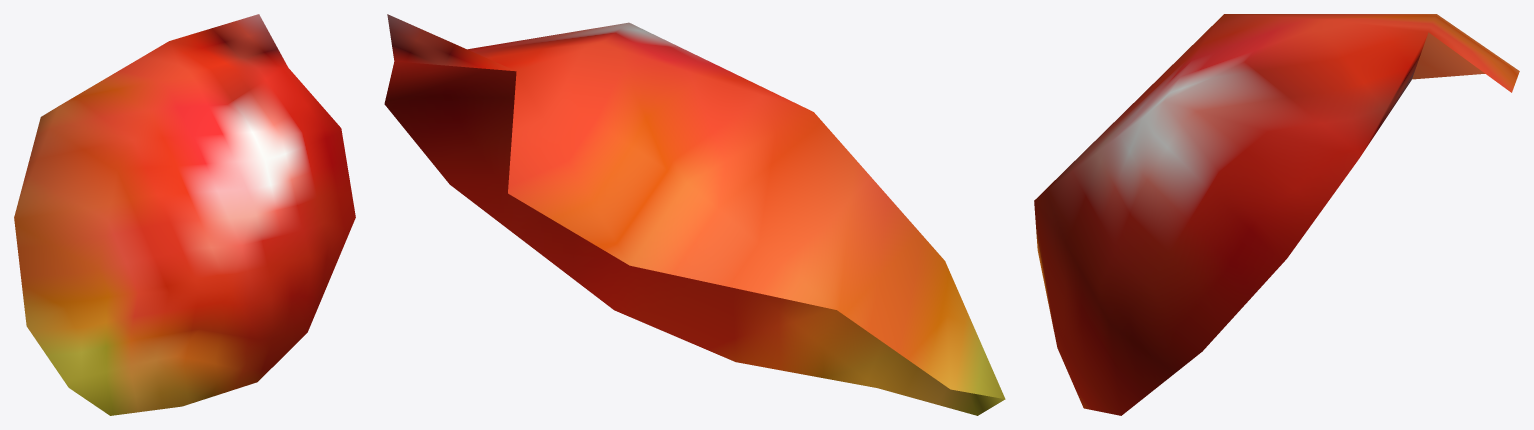
File: fg_mango_out.dae
3 views of the same model, side by side, from view 1: azimuth 30°, elevation 25°; view 2: azimuth 150°, elevation 25°; view 3: azimuth 270°, elevation 25° (orthographic). The views are drawn at different scales.
Parts seen in each view (by area): view 1: fg_mango_out; view 2: fg_mango_out; view 3: fg_mango_out.
Part boxes in pixels (x1,y1,x2,y2): fg_mango_out: [14, 14, 355, 415]; fg_mango_out: [384, 14, 1005, 415]; fg_mango_out: [1034, 14, 1519, 415].
Bounding box in the file's own units: 14.1 × 10.79 × 11.58.
Materials: 1 (1 with a texture image).
